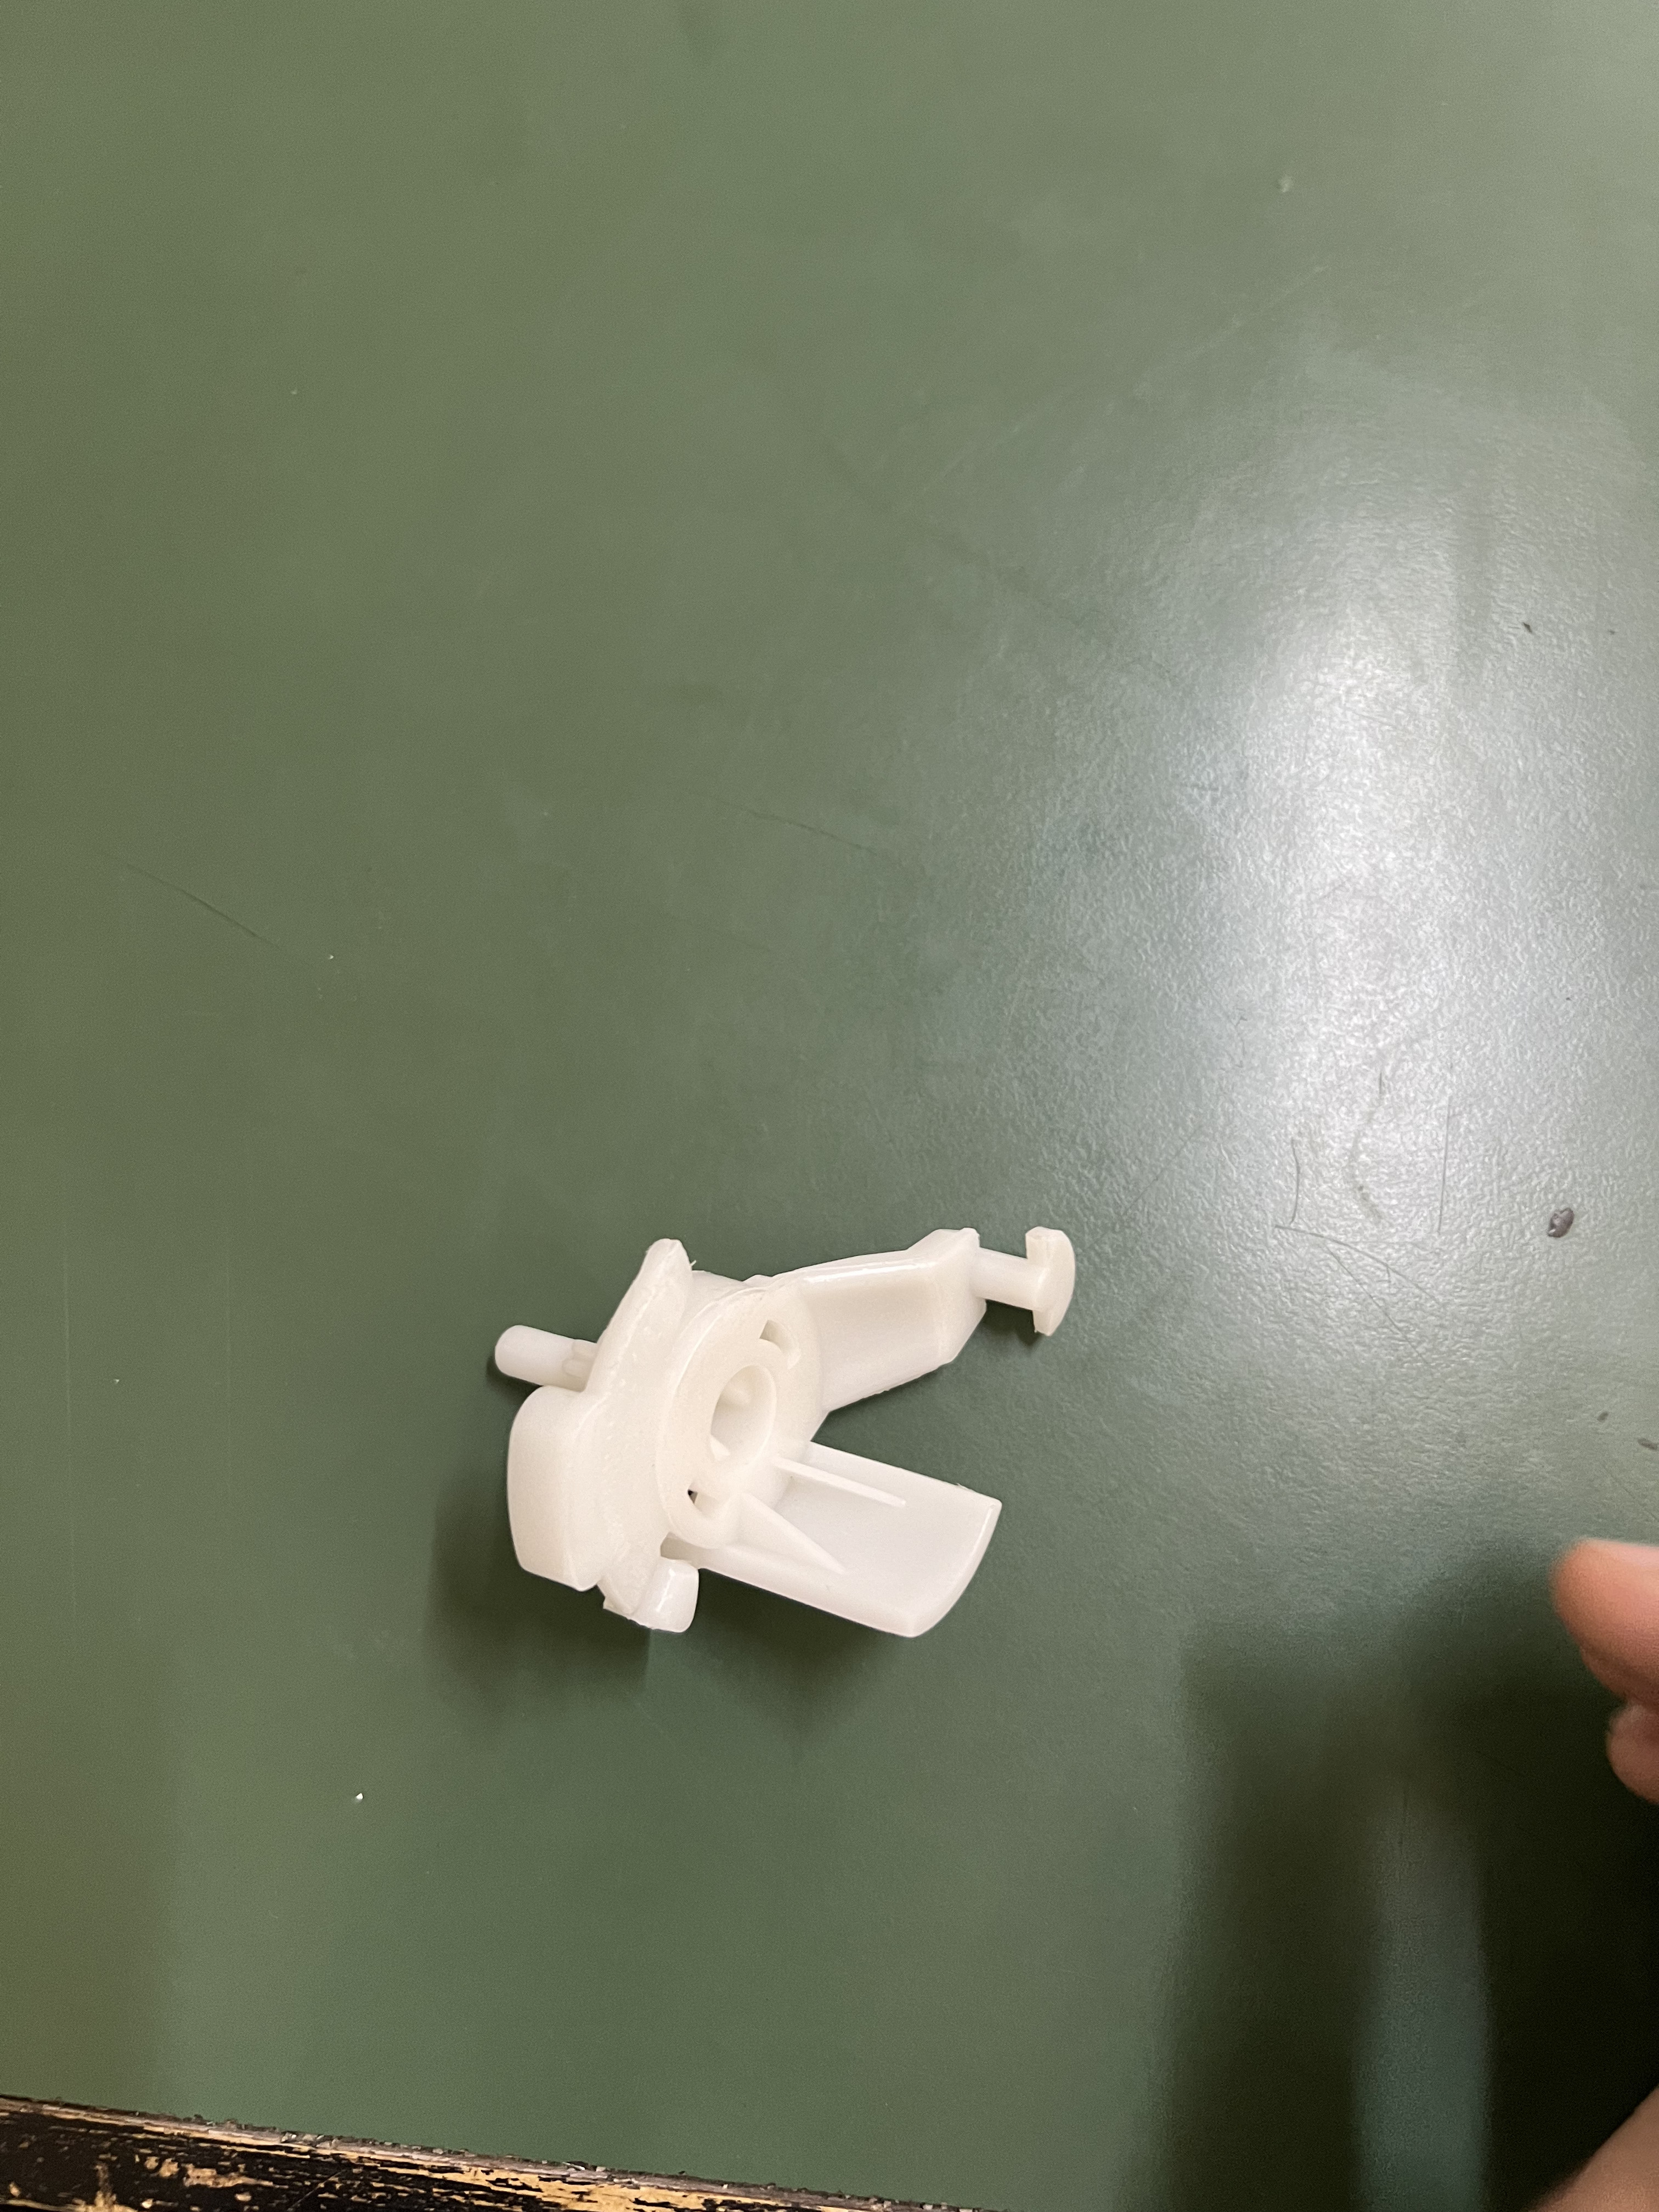drain_lever: (430, 1214, 1187, 1641)
